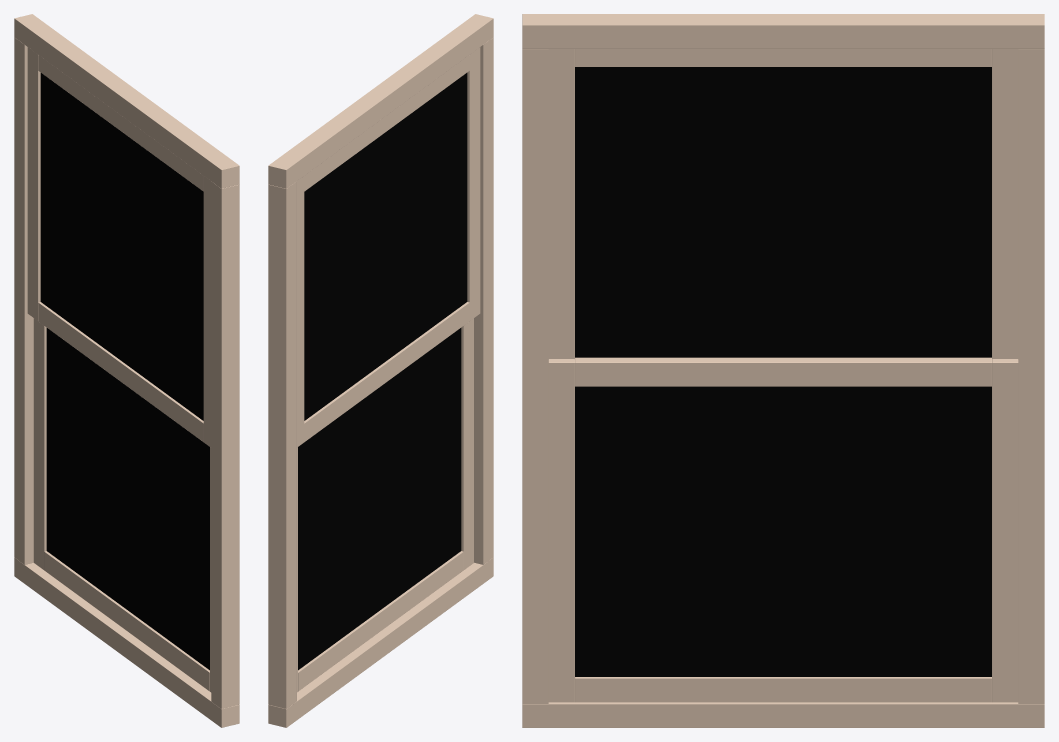
Rendered from Window_C.fbx.
3 renders of one model, left to right at view 1: azimuth 30°, elevation 25°; view 2: azimuth 150°, elevation 25°; view 3: azimuth 270°, elevation 25°, orthographic. The views are drawn at different scales.
Parts seen in each view (by area): view 1: Window_C.001; view 2: Window_C.001; view 3: Window_C.001.
Boxes of the visible parts, <box> form: Window_C.001: <box>14,14,239,727</box>; Window_C.001: <box>268,14,493,727</box>; Window_C.001: <box>522,14,1044,727</box>.
Bounding box in the file's own units: 0.0512 × 1.5 × 1.01.
